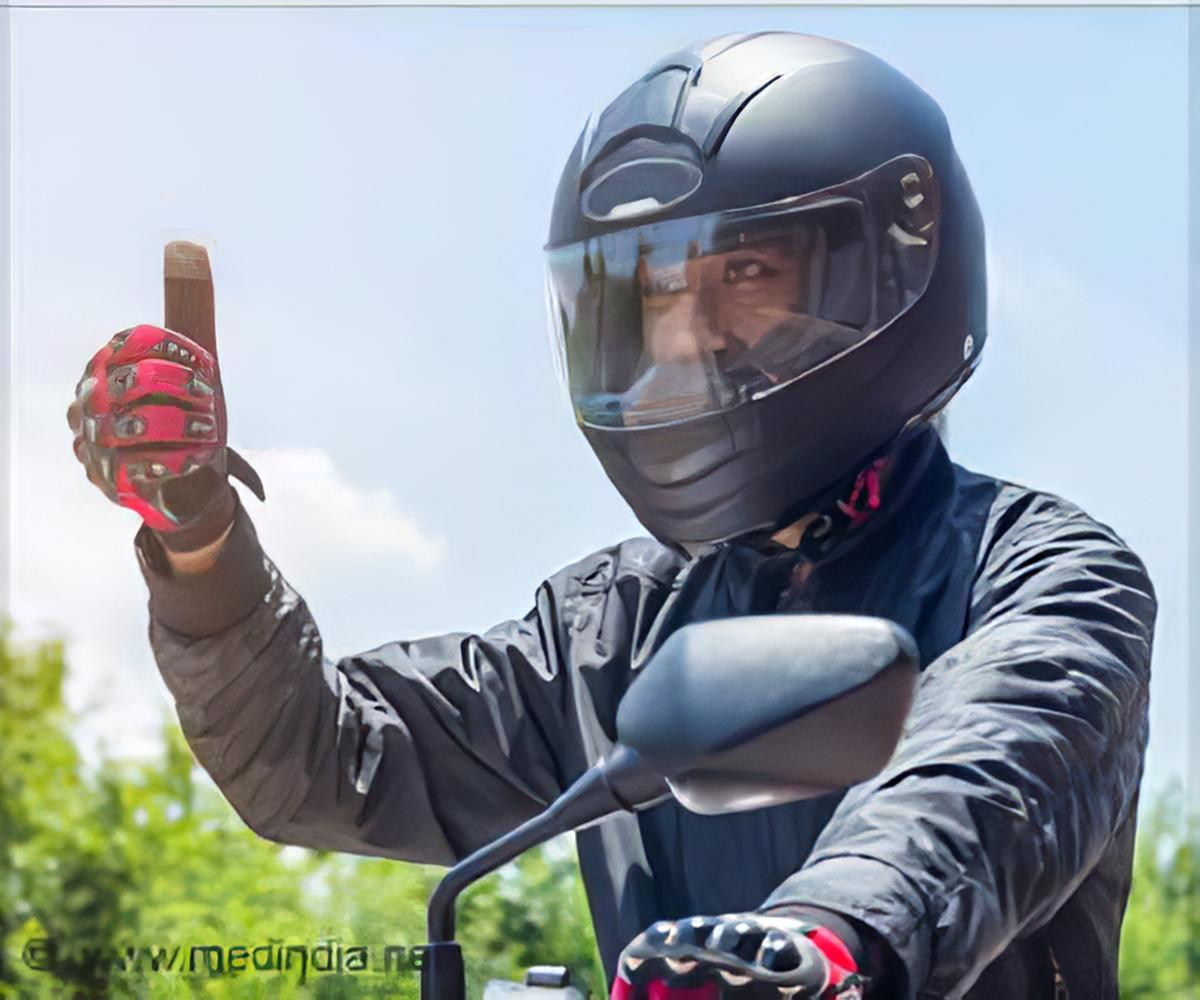Helmet: (547, 33, 982, 556)
